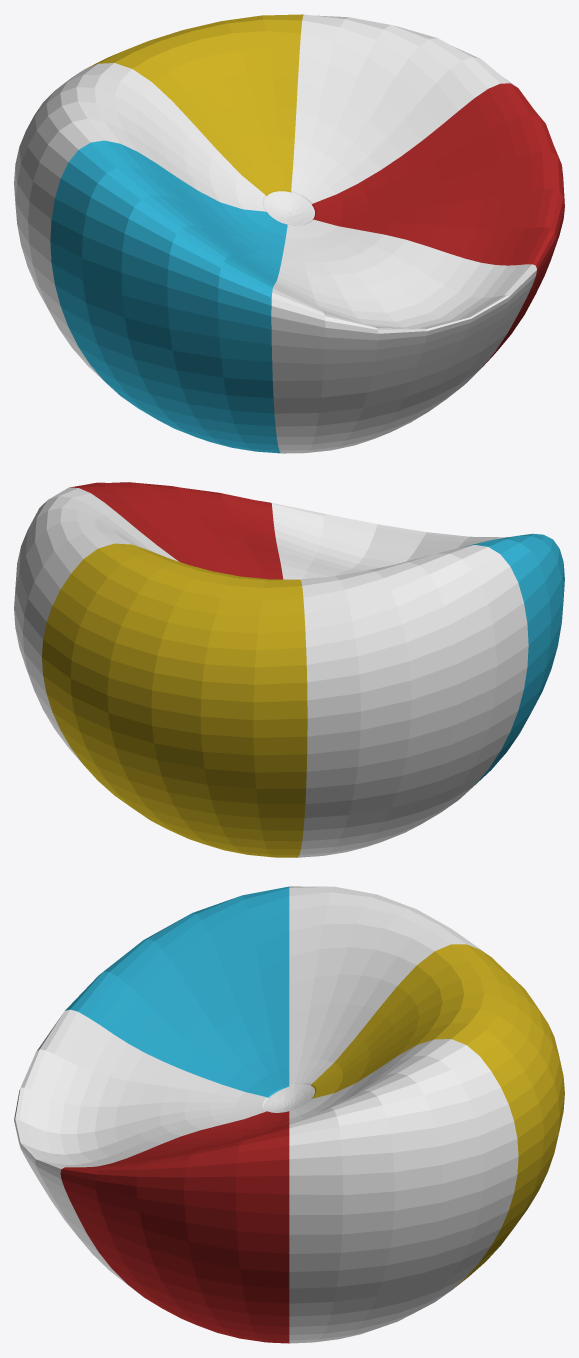
3 renders of one model, top to bottom at view 1: azimuth 30°, elevation 25°; view 2: azimuth 150°, elevation 25°; view 3: azimuth 270°, elevation 25°, orthographic.
Visible parts, largest first — view 1: Sphere; view 2: Sphere; view 3: Sphere.
Boxes of the visible parts, bbox=[...] form: Sphere: bbox=[14, 14, 564, 453]; Sphere: bbox=[14, 482, 564, 857]; Sphere: bbox=[14, 886, 564, 1343].
Bounding box in the file's own units: 200 × 135 × 200.
